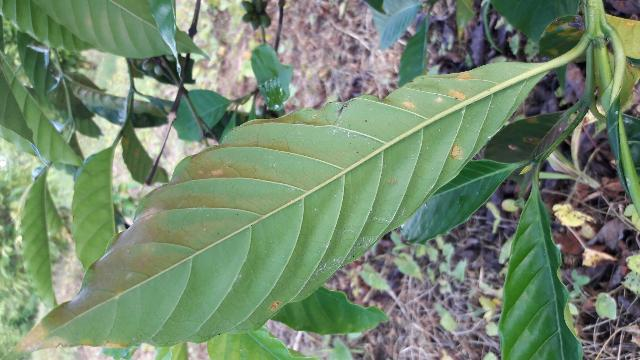rust_level_1: (7, 63, 552, 359)
